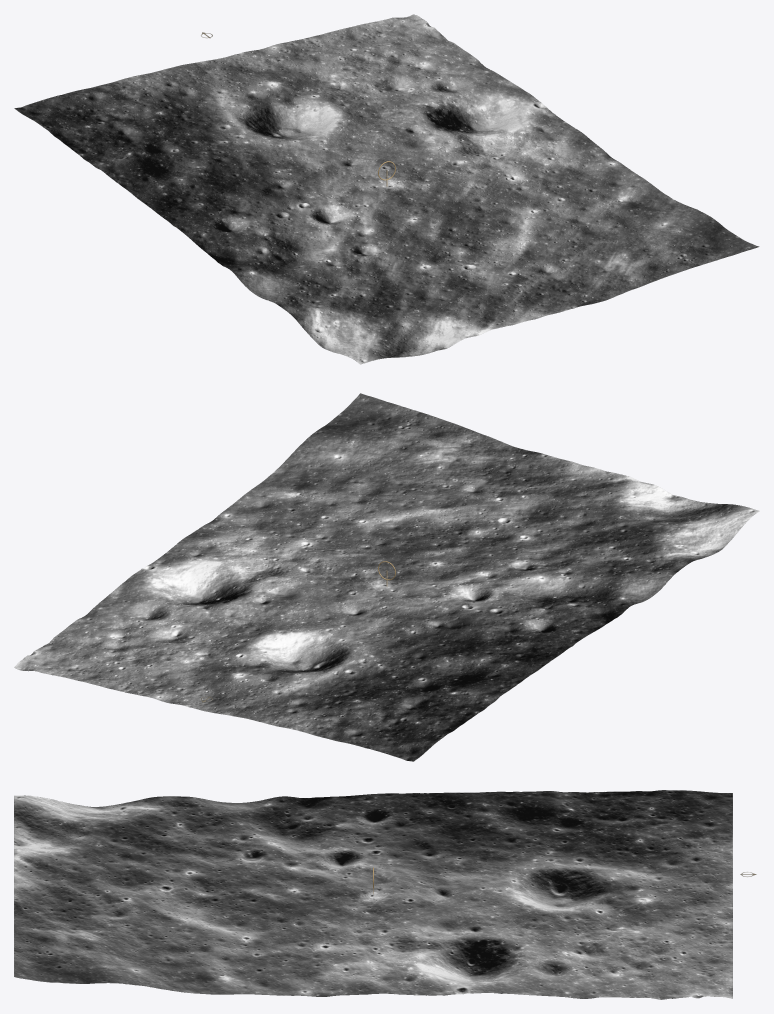
File: Apollo16_Descartes_Highlands_MKI.glb
3 renders of one model, top to bottom at view 1: azimuth 30°, elevation 25°; view 2: azimuth 150°, elevation 25°; view 3: azimuth 270°, elevation 25°, orthographic. The views are drawn at different scales.
Visible parts, largest first — view 1: Apollo16_Descartes_Highlands; view 2: Apollo16_Descartes_Highlands; view 3: Apollo16_Descartes_Highlands.
Part boxes in pixels (x1,y1,x2,y2): Apollo16_Descartes_Highlands: (14, 14, 759, 364); Apollo16_Descartes_Highlands: (14, 393, 759, 761); Apollo16_Descartes_Highlands: (14, 790, 732, 999).
Size of the model in its own units: 3992 by 366 by 6217.
3 materials, 2 textured.
